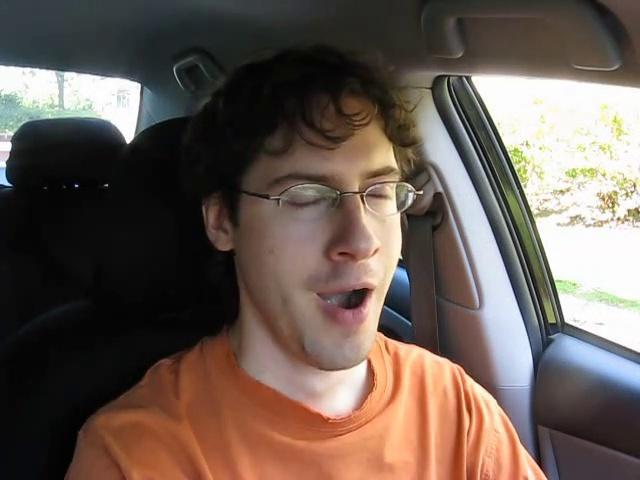yawn: (314, 280, 379, 324)
